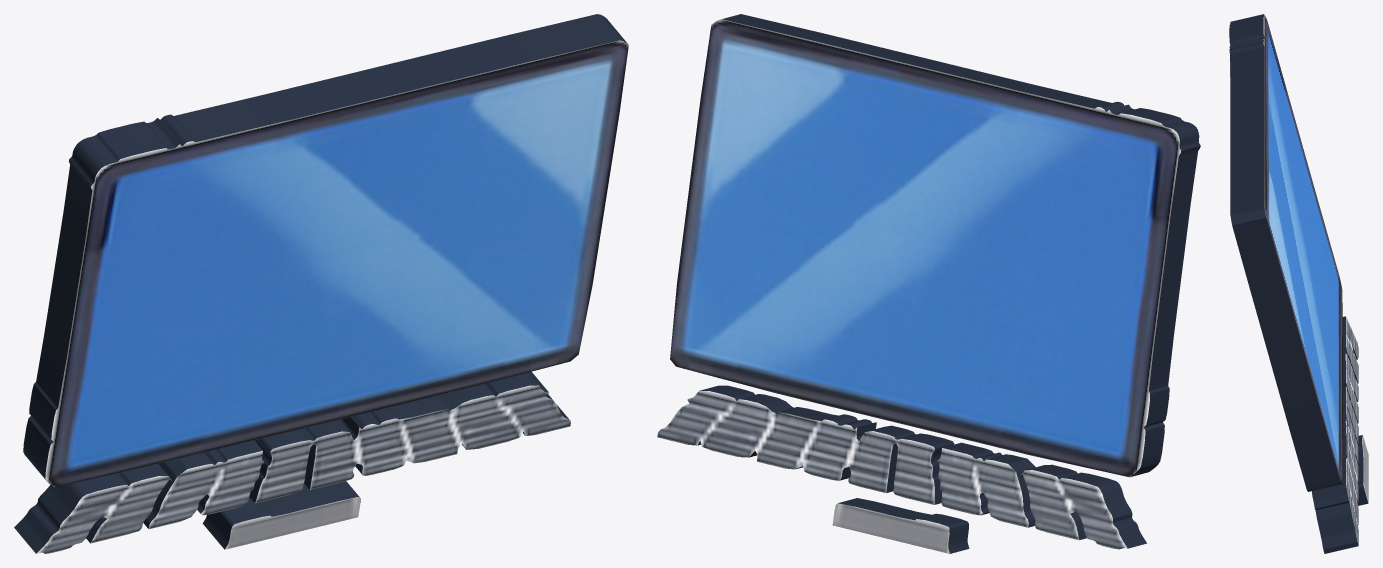
The model's file is crypto-laptop-front.glb.
3 renders of one model, left to right at view 1: azimuth 30°, elevation 25°; view 2: azimuth 150°, elevation 25°; view 3: azimuth 270°, elevation 25°, orthographic. The views are drawn at different scales.
Visible parts, largest first — view 1: 07_Laptop_front.001; view 2: 07_Laptop_front.001; view 3: 07_Laptop_front.001.
Boxes of the visible parts, x1=… form: 07_Laptop_front.001: x1=14, y1=14, x2=628, y2=553; 07_Laptop_front.001: x1=657, y1=14, x2=1200, y2=553; 07_Laptop_front.001: x1=1229, y1=14, x2=1368, y2=553.
Size of the model in its own units: 2.4 by 2.1 by 0.6965.
2 materials, 1 textured.
